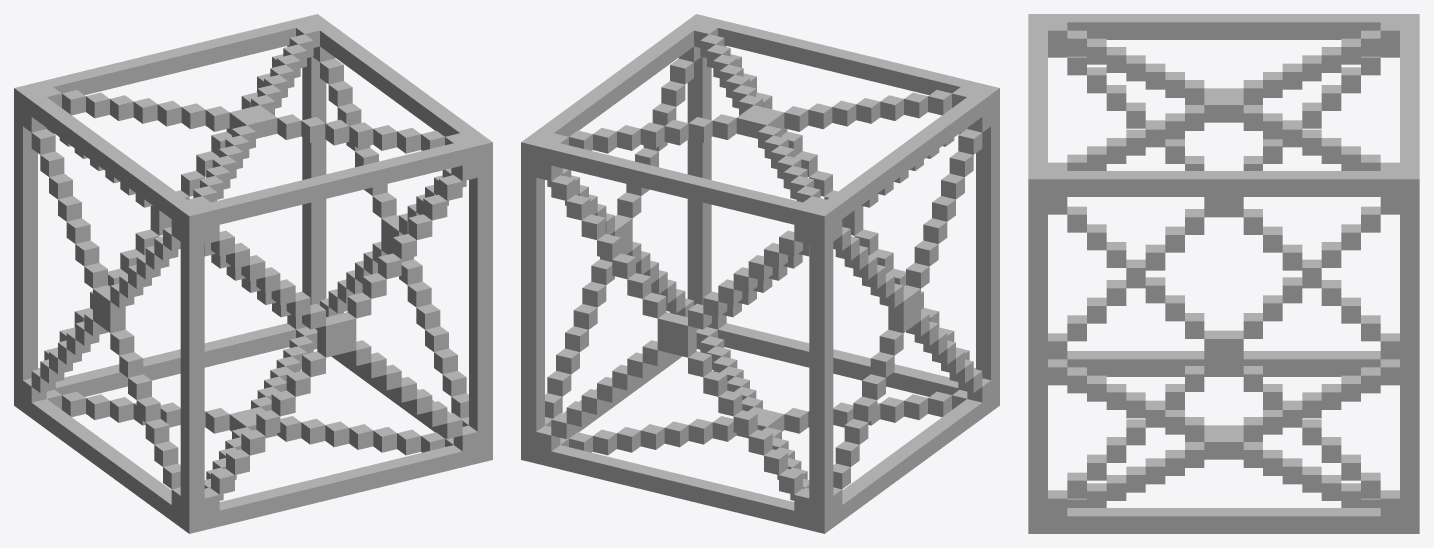
Rendered from cube_frame.obj.
The picture shows the model from 3 angles, left to right: view 1: azimuth 30°, elevation 25°; view 2: azimuth 150°, elevation 25°; view 3: azimuth 270°, elevation 25°; orthographic projection. The views are drawn at different scales.
Size of the model in its own units: 20 by 20 by 20.
